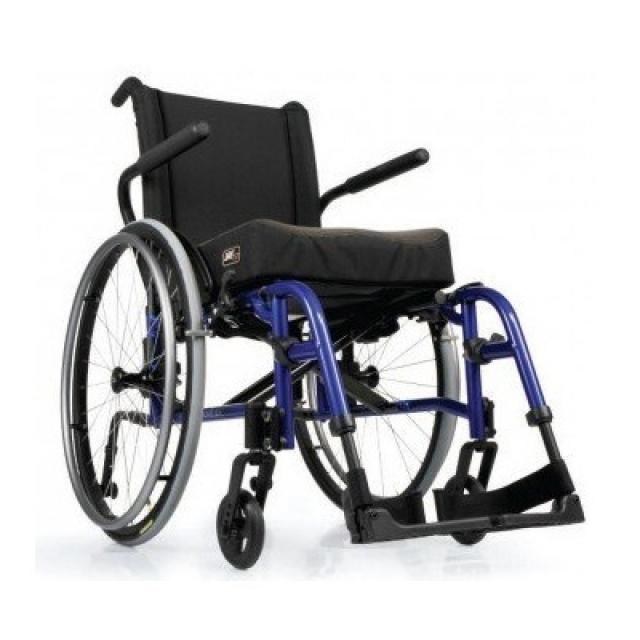wheelchair: (45, 64, 604, 578)
